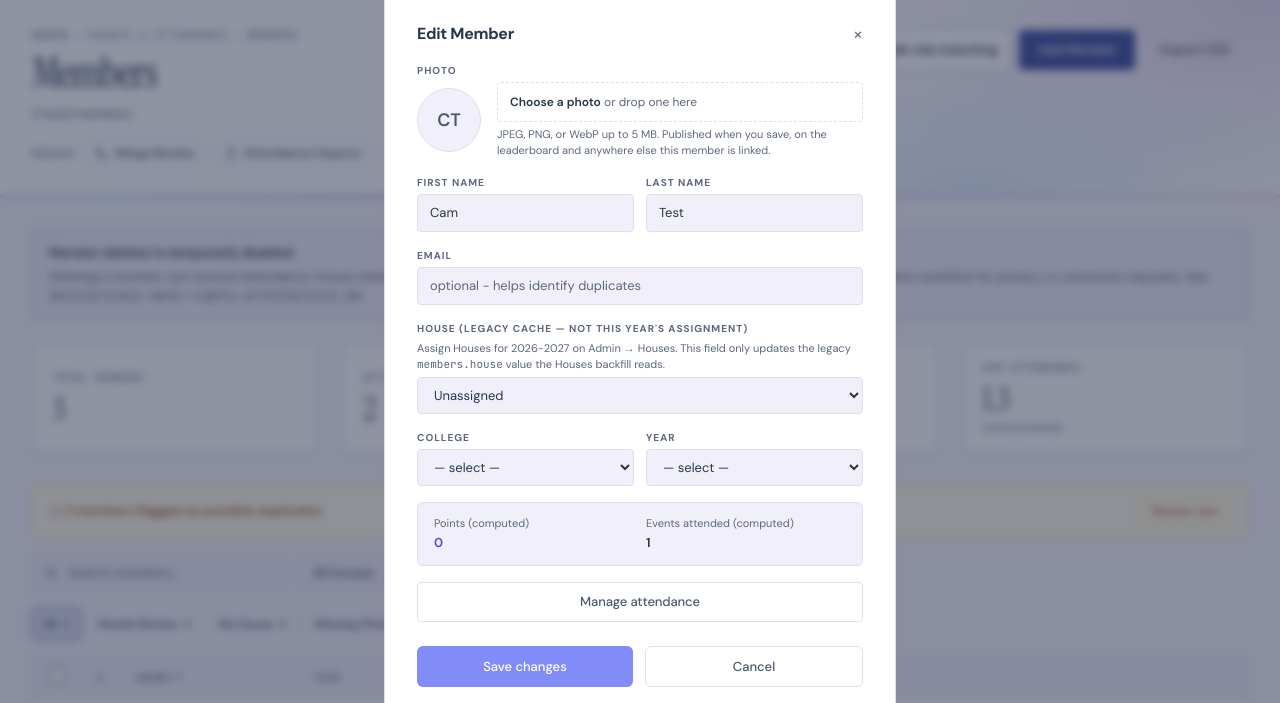
Scenario: discarding unsaved edits › closes the editor only after Discard changes
expect the heading "Edit Member" is shown: met, box [417,25,514,43]
Replace the text in the field showing "Cam" below "First name" with "Cameron": (526, 213) [417,194,634,232]
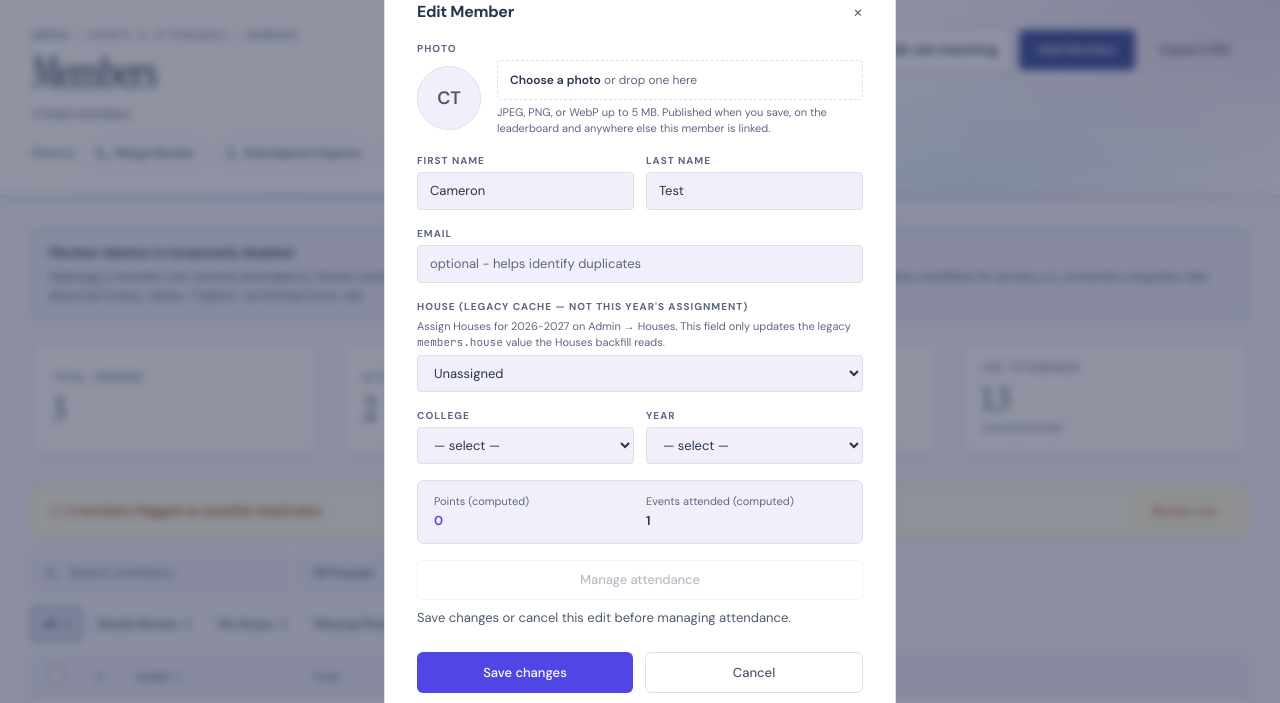
Click the button "Cancel": (754, 672) [645,652,863,693]
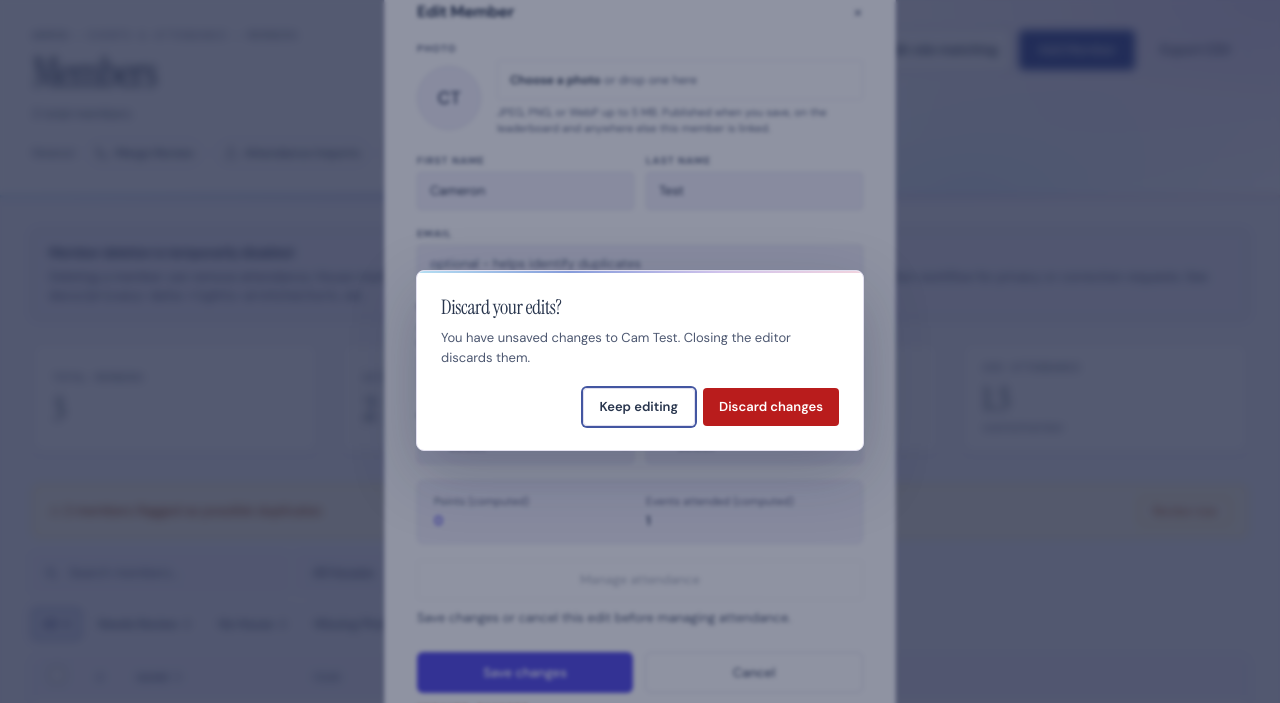
expect the heading "Edit Member" is shown: met, box [417,3,514,20]
Click the button "Discard changes": (771, 406) [703,388,839,426]
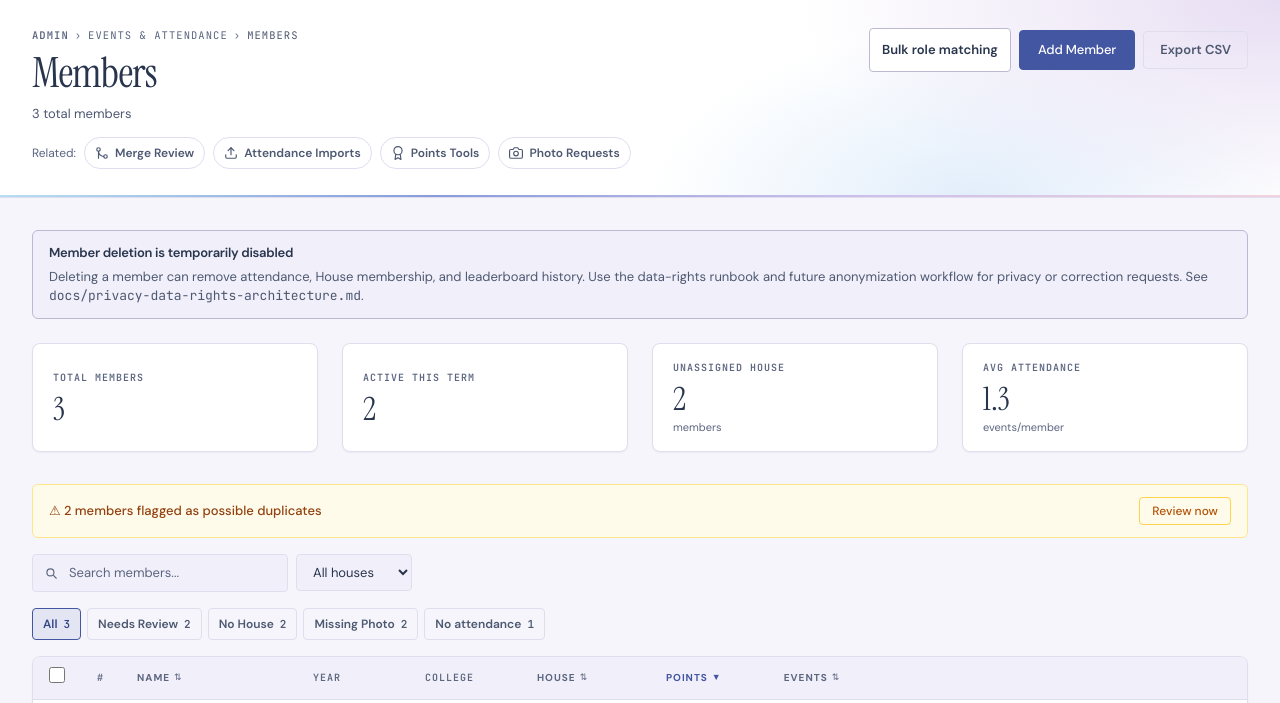
expect the heading "Edit Member" is gone: met
expect the dialog is gone: met
